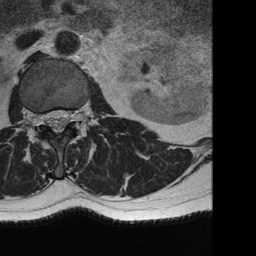CCS_normal: (53, 100, 61, 142)
LFS_normal: (70, 102, 80, 128)
LLS_normal: (61, 102, 70, 135)
RFS_normal: (34, 102, 43, 133)
RLS_normal: (43, 100, 53, 135)
